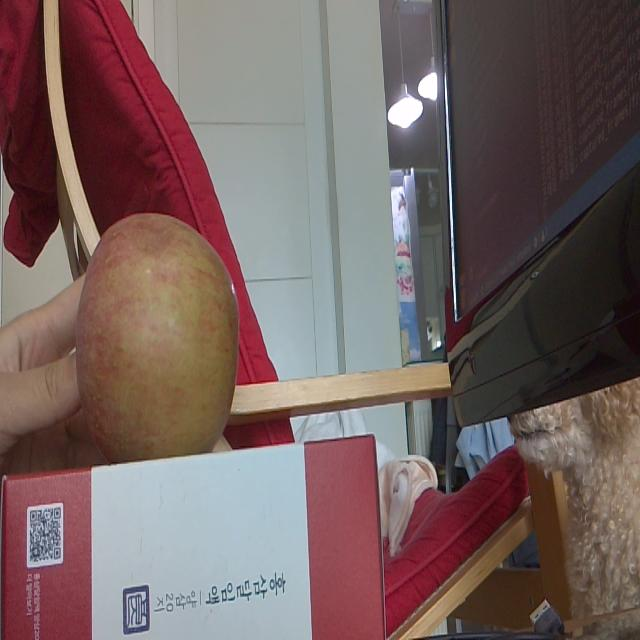apple: (74, 214, 238, 450)
